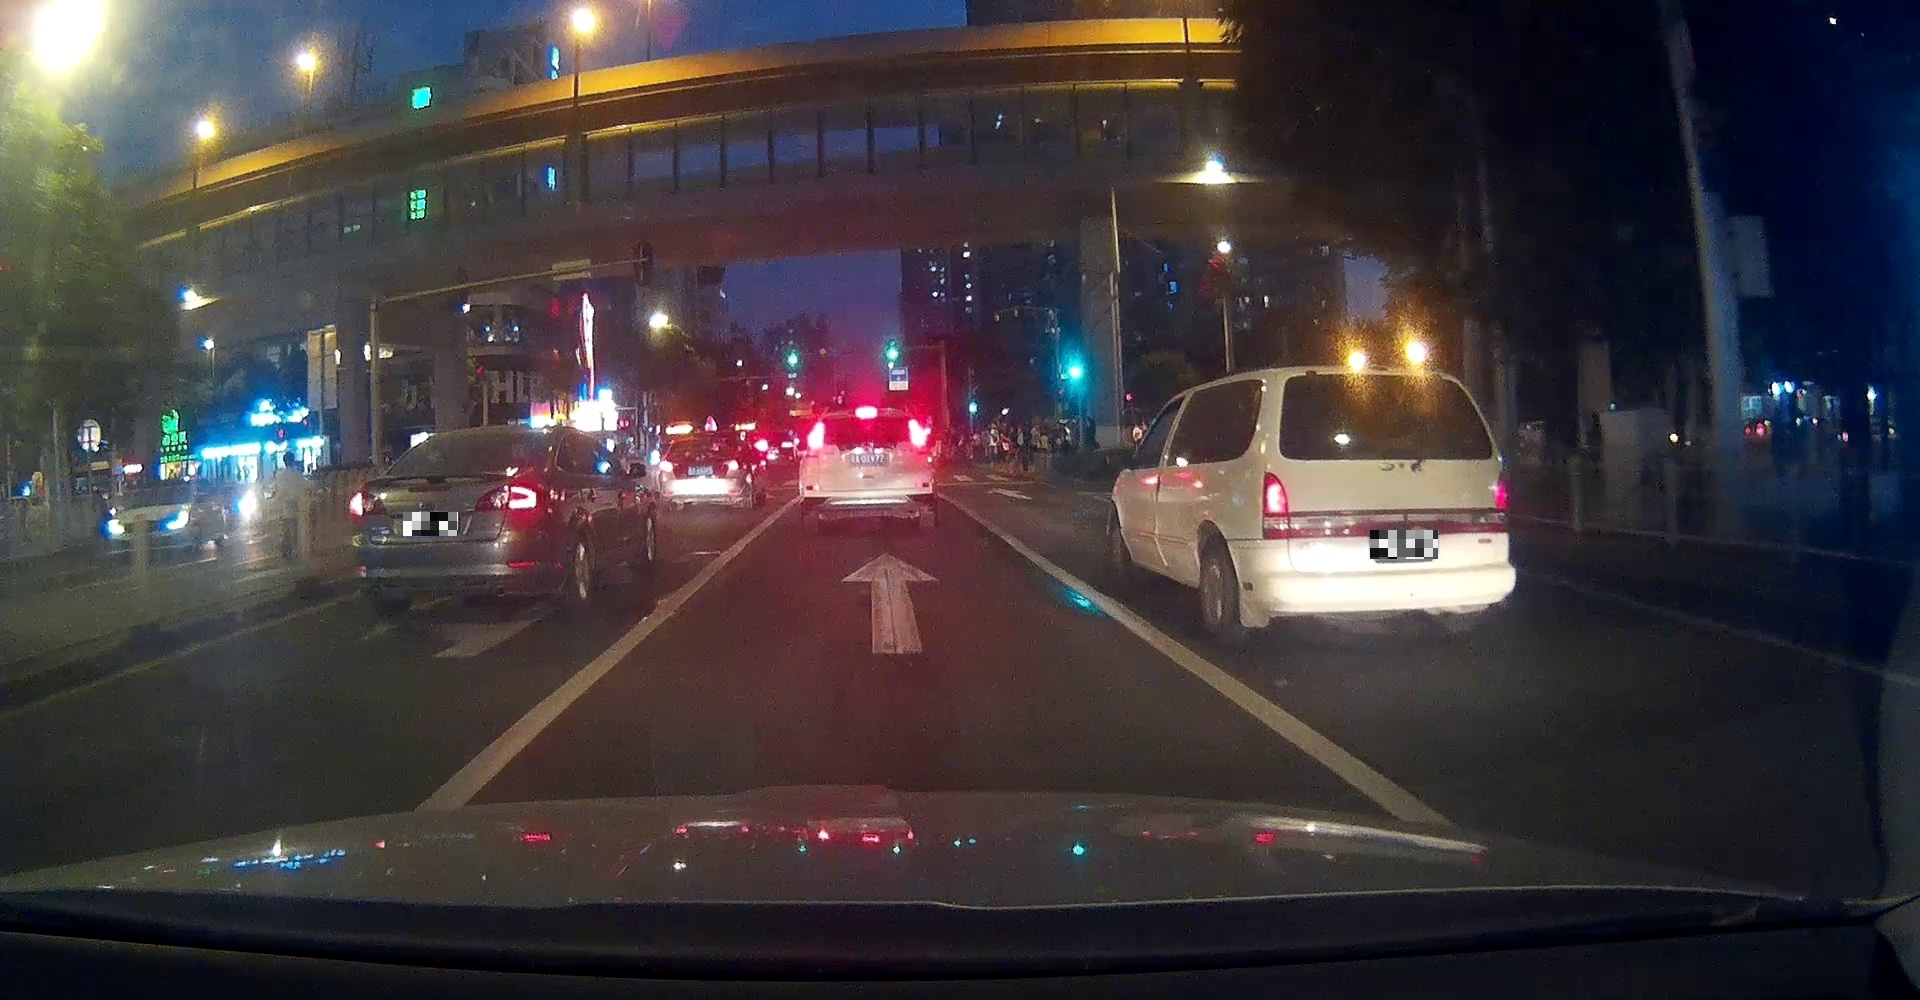L_light: (1261, 471, 1288, 516), (349, 490, 387, 516), (659, 461, 676, 473), (804, 448, 819, 458)
R_light: (475, 481, 537, 511), (1493, 475, 1509, 511), (723, 459, 742, 470), (914, 448, 933, 457)
T_light: (1371, 374, 1398, 383), (856, 410, 877, 419), (477, 437, 500, 442), (700, 438, 710, 443)
night-no: (1260, 365, 1517, 633), (349, 424, 555, 615), (799, 409, 937, 534), (659, 431, 744, 510)
plate_1: (403, 511, 458, 536)
plate_2: (1370, 530, 1437, 558)
